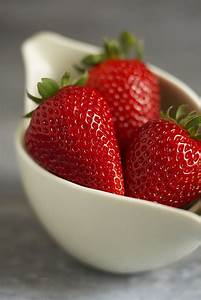Fresa: (20, 82, 129, 204), (124, 110, 201, 211)
